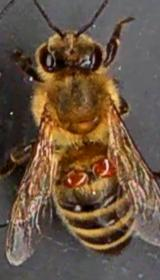varroa_mite: (59, 162, 92, 190), (89, 157, 117, 182)
